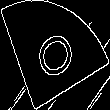O_SW: (30, 24, 80, 86)
